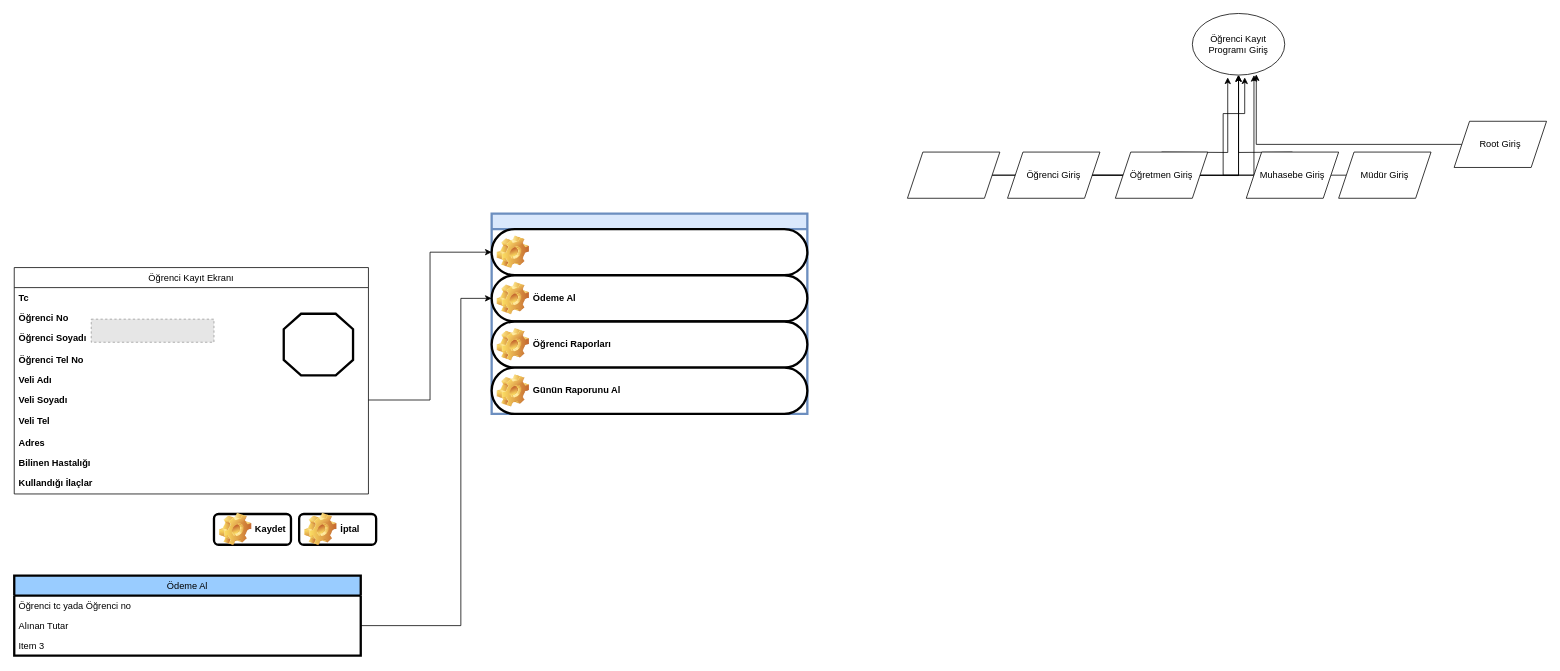
This 1560x671 diagram has some shape labels left out. Grey dashed boxes stand in for pictures. Each missing label, with the box of its shape:
Resim Resim Eklendiği Tarih: (282, 312, 354, 376)
Sekreter Giriş: (907, 151, 1000, 198)
Sekreter Giriş Ekranı: (490, 212, 808, 415)
Yeni Öğrenci Kayıt: (490, 228, 808, 276)
